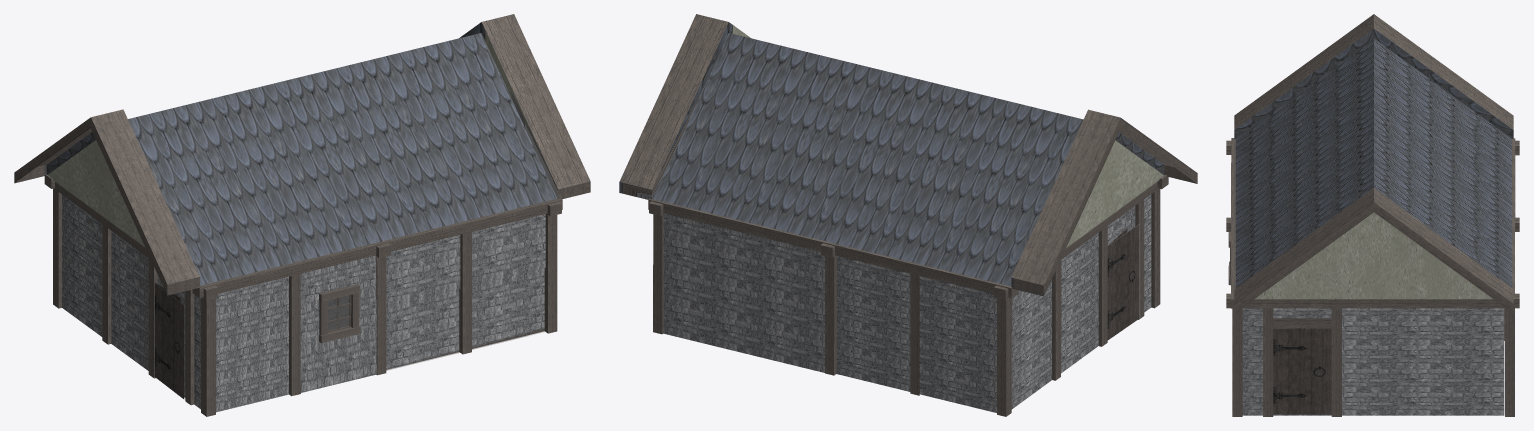
Rendered from 1ST HOUSE EXT.fbx.
The picture shows the model from 3 angles, left to right: view 1: azimuth 30°, elevation 25°; view 2: azimuth 150°, elevation 25°; view 3: azimuth 270°, elevation 25°; orthographic projection. The views are drawn at different scales.
Visible parts, largest first — view 1: 1ST HOUSE; view 2: 1ST HOUSE; view 3: 1ST HOUSE.
Part boxes in pixels (x1,y1,x2,y2): 1ST HOUSE: (14, 14, 590, 416); 1ST HOUSE: (619, 14, 1197, 416); 1ST HOUSE: (1226, 14, 1519, 416).
Bounding box in the file's own units: 3339 × 1903 × 2199.
Materials: 1 (1 with a texture image).
